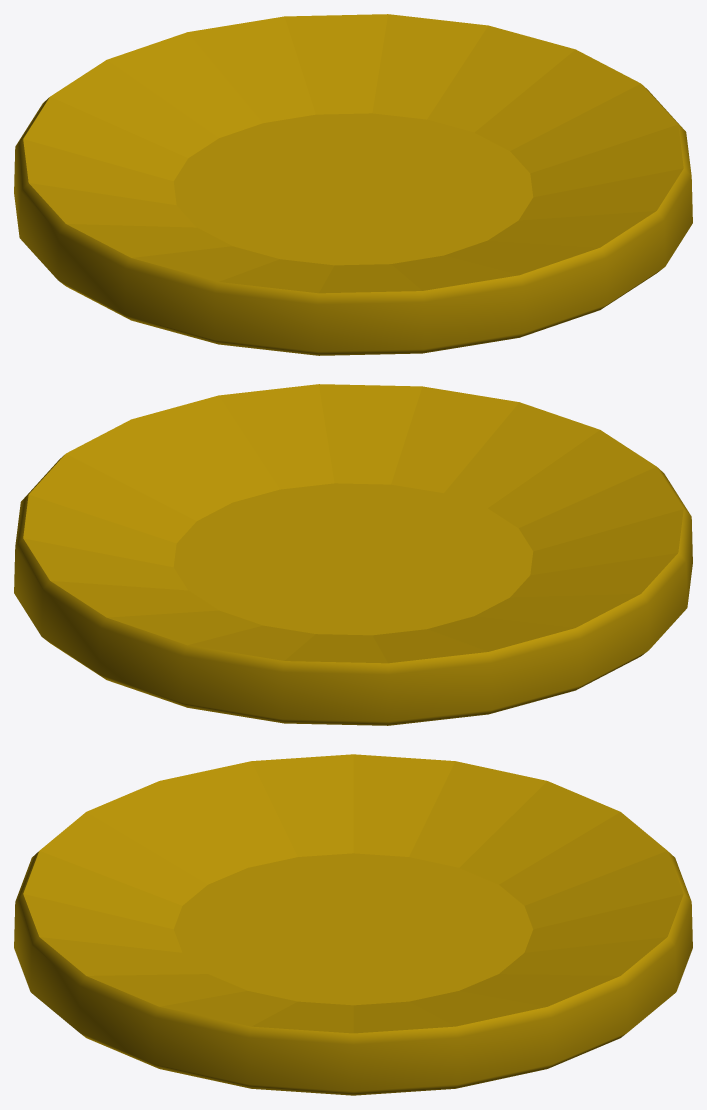
File: Soap_Dish.fbx
3 renders of one model, top to bottom at view 1: azimuth 30°, elevation 25°; view 2: azimuth 150°, elevation 25°; view 3: azimuth 270°, elevation 25°, orthographic.
Parts seen in each view (by area): view 1: Soap_Dish; view 2: Soap_Dish; view 3: Soap_Dish.
Boxes of the visible parts, x1,y1,x2,y2 form: Soap_Dish: (14, 14, 692, 355); Soap_Dish: (14, 384, 692, 725); Soap_Dish: (14, 754, 692, 1095).
Size of the model in its own units: 95.42 by 9.64 by 95.42.
